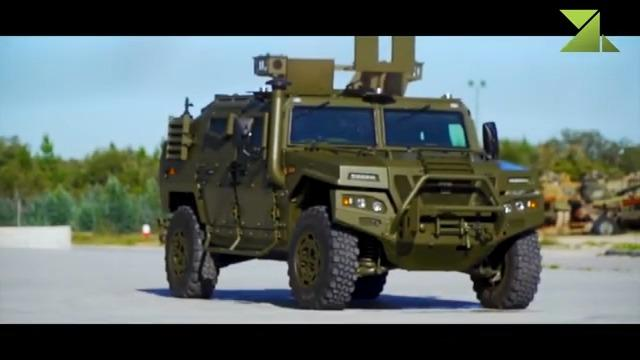MIL_HMMWV: (157, 90, 546, 310)
